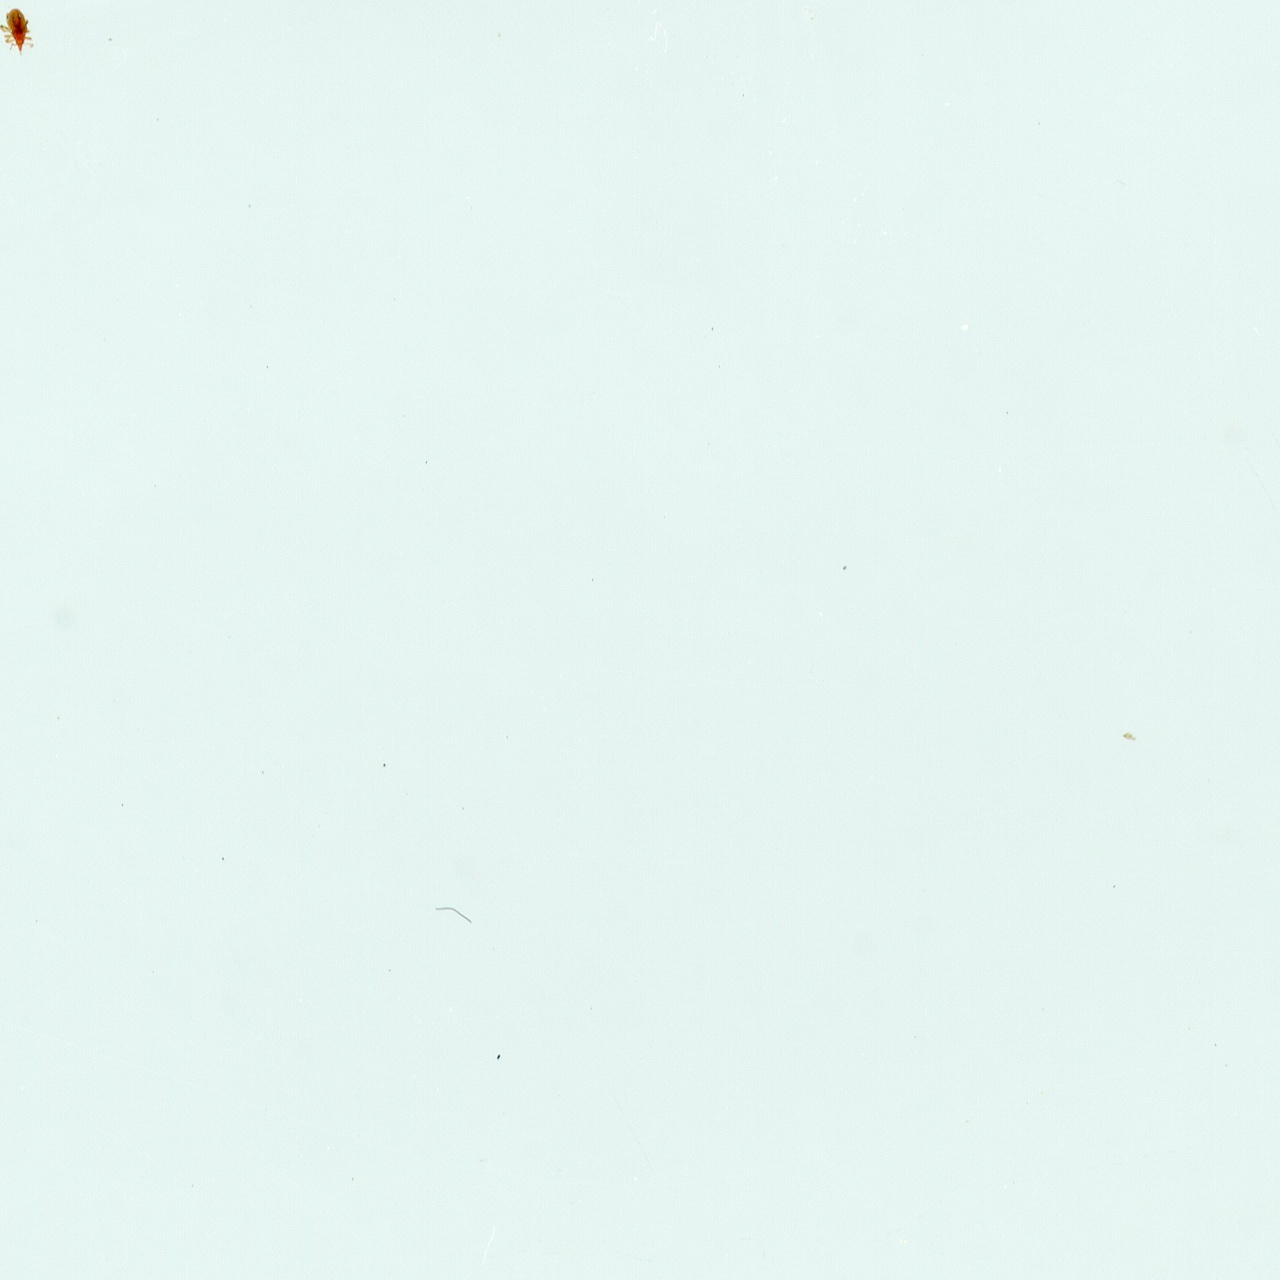arthropod: (0, 4, 36, 56)
